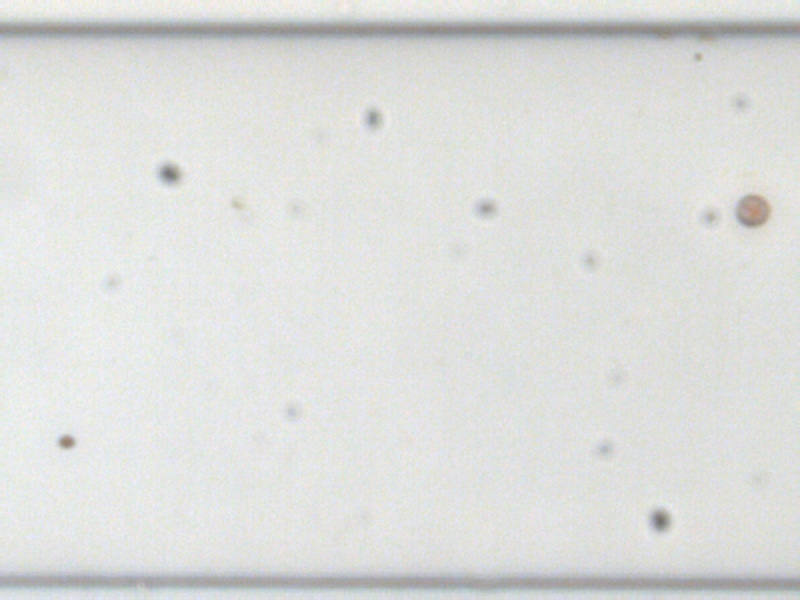Porphyridium: (731, 193, 770, 225), (57, 432, 77, 449)
